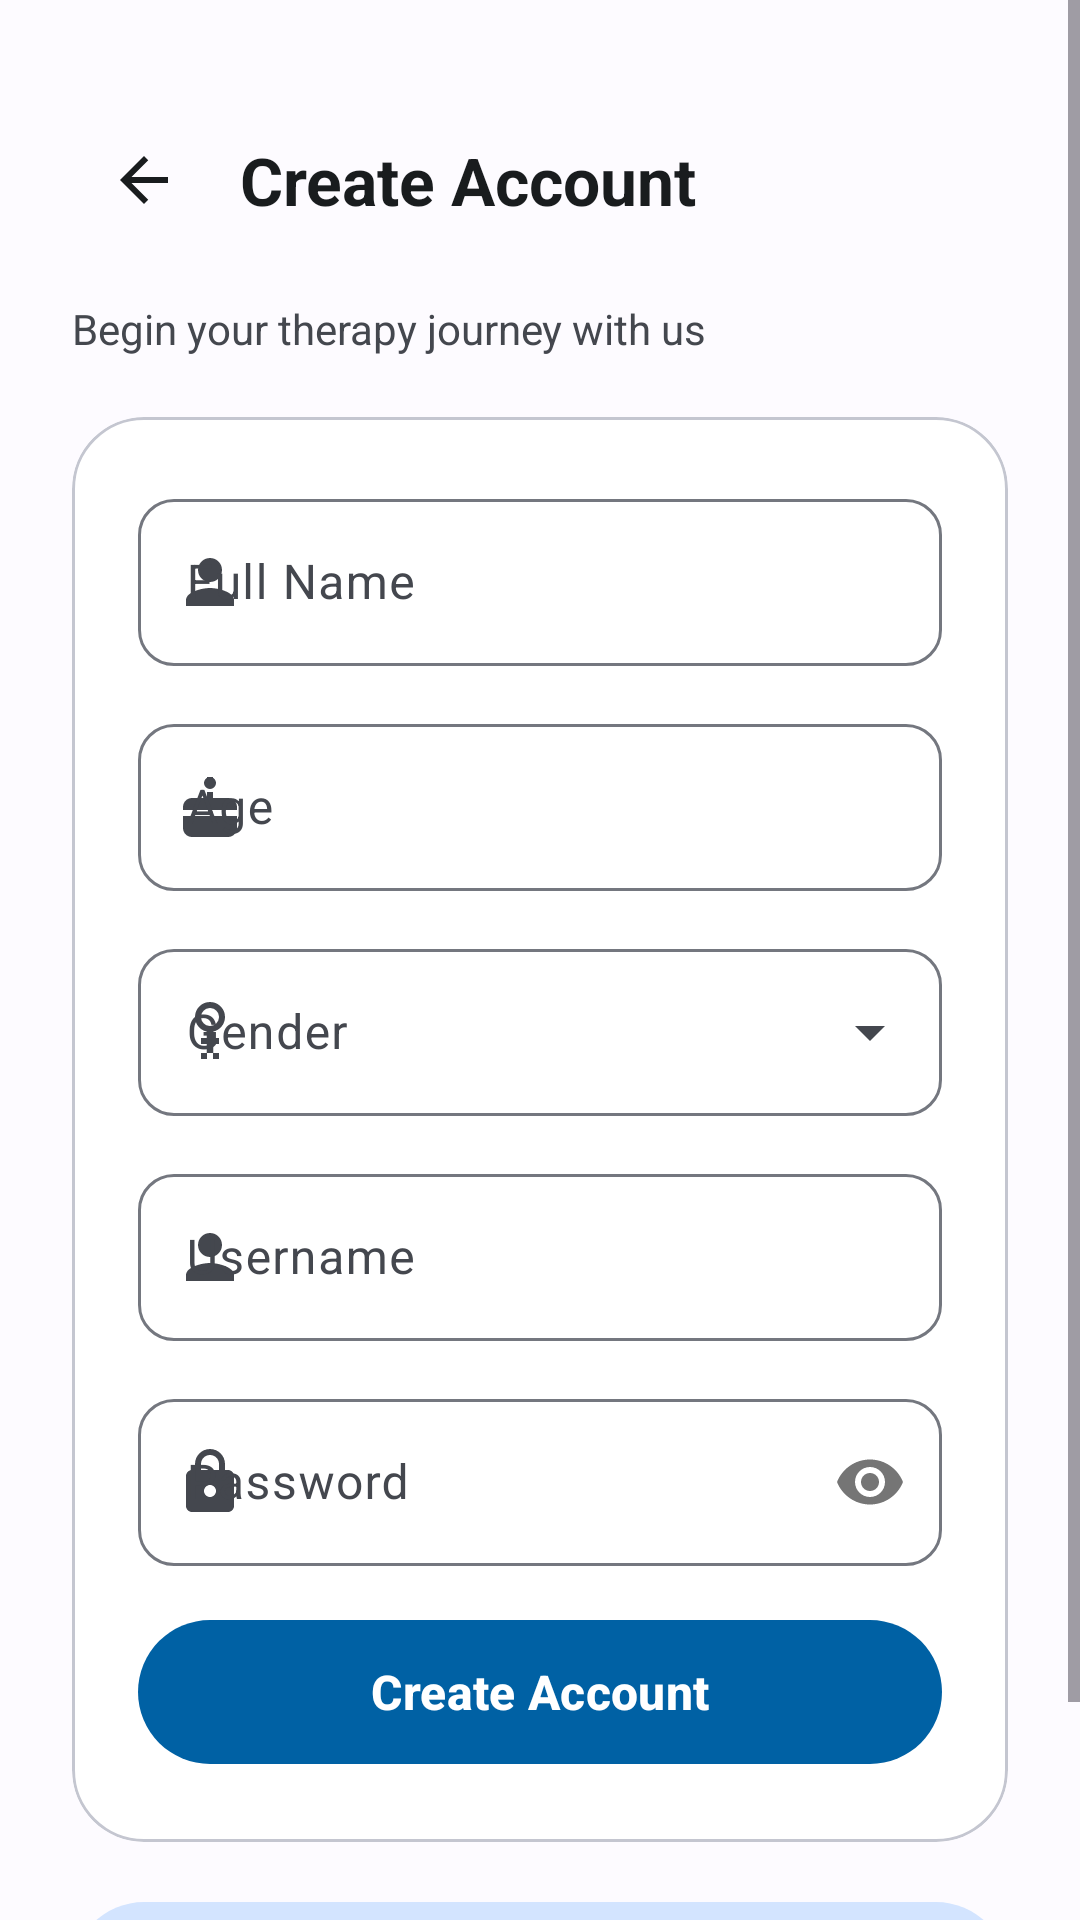

Point at icon controls on the screen. Image size 1080x1920, points as [x,y].
Go back: [144,180]
